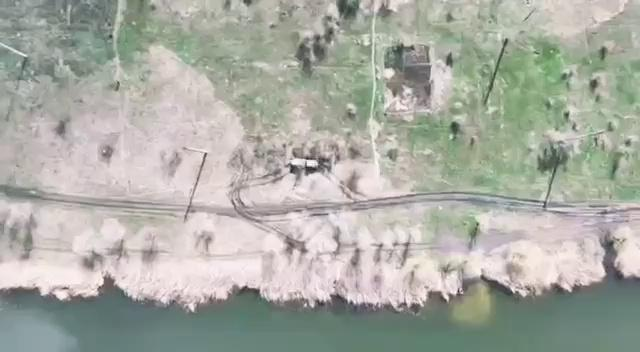vehicle: (289, 158, 319, 169)
